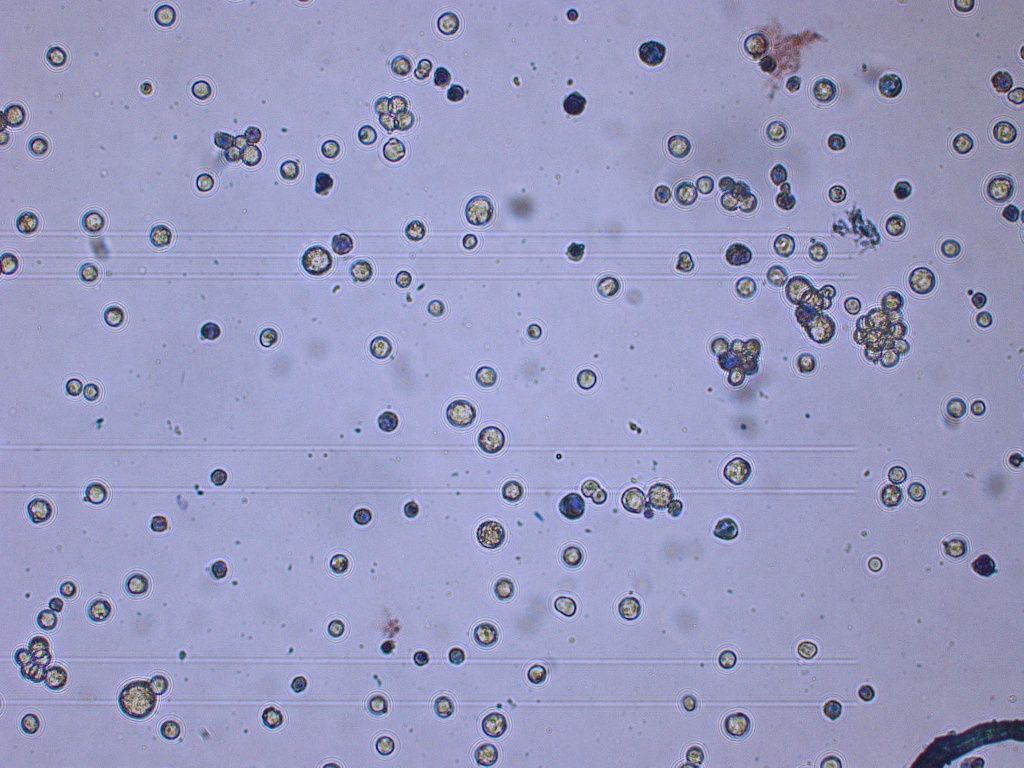Aggregate: (851, 307, 910, 370), (708, 336, 765, 387), (12, 634, 51, 683)
Alive: (119, 680, 156, 718), (302, 247, 332, 277), (466, 195, 493, 225), (447, 400, 476, 427), (477, 521, 505, 547), (784, 275, 810, 303), (724, 457, 750, 483), (479, 426, 504, 453), (648, 482, 672, 510), (910, 268, 935, 294), (992, 120, 1016, 145), (483, 713, 507, 737), (743, 32, 767, 55), (618, 595, 641, 619), (725, 713, 749, 736), (987, 178, 1012, 200), (437, 11, 459, 36), (30, 498, 52, 523), (383, 138, 405, 162), (881, 483, 902, 508), (16, 209, 37, 233), (44, 666, 68, 687), (773, 234, 794, 257), (812, 79, 833, 102), (622, 488, 642, 512), (668, 134, 689, 156), (262, 707, 283, 729), (476, 744, 497, 766), (475, 624, 497, 645), (554, 595, 576, 616), (154, 5, 175, 26), (36, 608, 57, 629), (477, 365, 497, 387), (767, 264, 787, 286), (885, 214, 905, 236), (150, 226, 170, 248), (87, 481, 107, 503), (493, 578, 515, 598), (597, 276, 617, 297), (352, 260, 372, 281), (394, 111, 415, 131), (576, 368, 595, 390), (371, 337, 390, 359), (766, 121, 788, 140), (90, 601, 112, 620), (676, 182, 694, 205), (105, 305, 124, 326), (84, 210, 103, 231), (5, 104, 24, 125), (435, 696, 453, 718), (941, 239, 960, 259), (46, 46, 66, 65), (358, 125, 377, 145), (390, 55, 410, 74), (127, 573, 147, 592), (735, 277, 756, 295), (953, 134, 974, 152), (405, 219, 423, 240), (243, 144, 260, 166), (21, 712, 38, 734), (947, 396, 964, 418), (1, 253, 17, 276), (503, 481, 522, 500), (797, 353, 816, 372), (368, 694, 387, 713), (563, 546, 582, 565), (808, 243, 828, 261), (526, 665, 546, 683), (677, 251, 695, 271), (883, 290, 903, 308), (281, 161, 299, 180), (161, 721, 180, 739), (685, 745, 704, 763), (945, 539, 964, 557), (908, 482, 926, 501), (260, 327, 277, 347), (797, 641, 817, 658), (1008, 86, 1024, 107), (192, 79, 210, 97), (321, 140, 339, 158), (330, 554, 348, 572), (151, 675, 168, 694), (376, 737, 395, 754), (828, 186, 847, 203), (844, 295, 861, 313), (30, 137, 48, 154), (197, 173, 214, 191), (80, 264, 97, 281), (719, 651, 736, 668), (888, 466, 905, 483), (379, 112, 396, 129), (328, 619, 344, 637), (820, 756, 844, 768), (427, 299, 443, 316), (67, 378, 83, 395), (60, 579, 76, 596), (581, 479, 597, 496), (224, 147, 242, 162), (698, 176, 713, 194), (683, 694, 697, 713), (463, 231, 477, 249), (85, 383, 99, 401), (868, 556, 883, 572), (374, 95, 388, 112), (977, 311, 992, 326), (396, 270, 410, 286), (593, 488, 607, 504), (389, 96, 407, 108), (527, 323, 541, 338), (971, 399, 985, 414), (954, 1, 974, 11)
Dead: (639, 40, 666, 66), (559, 493, 585, 519), (725, 243, 752, 265), (879, 73, 901, 98), (713, 518, 739, 539), (972, 554, 995, 577), (563, 93, 586, 115), (331, 233, 352, 255), (990, 71, 1011, 92), (377, 411, 399, 431), (775, 190, 796, 210), (823, 699, 842, 719), (315, 173, 332, 193), (770, 165, 787, 185), (567, 242, 585, 260), (828, 132, 845, 151), (894, 180, 911, 199), (202, 322, 220, 339), (353, 508, 372, 524), (447, 83, 463, 101), (1003, 204, 1019, 222), (654, 185, 670, 203), (859, 683, 874, 702), (150, 515, 166, 532), (435, 66, 449, 85), (210, 469, 227, 484), (213, 560, 228, 577), (786, 76, 801, 93), (291, 676, 306, 692), (760, 56, 776, 71), (404, 500, 417, 518), (448, 649, 464, 663), (246, 125, 260, 141), (972, 290, 985, 307), (414, 651, 427, 666), (381, 641, 395, 654), (567, 9, 576, 21)
